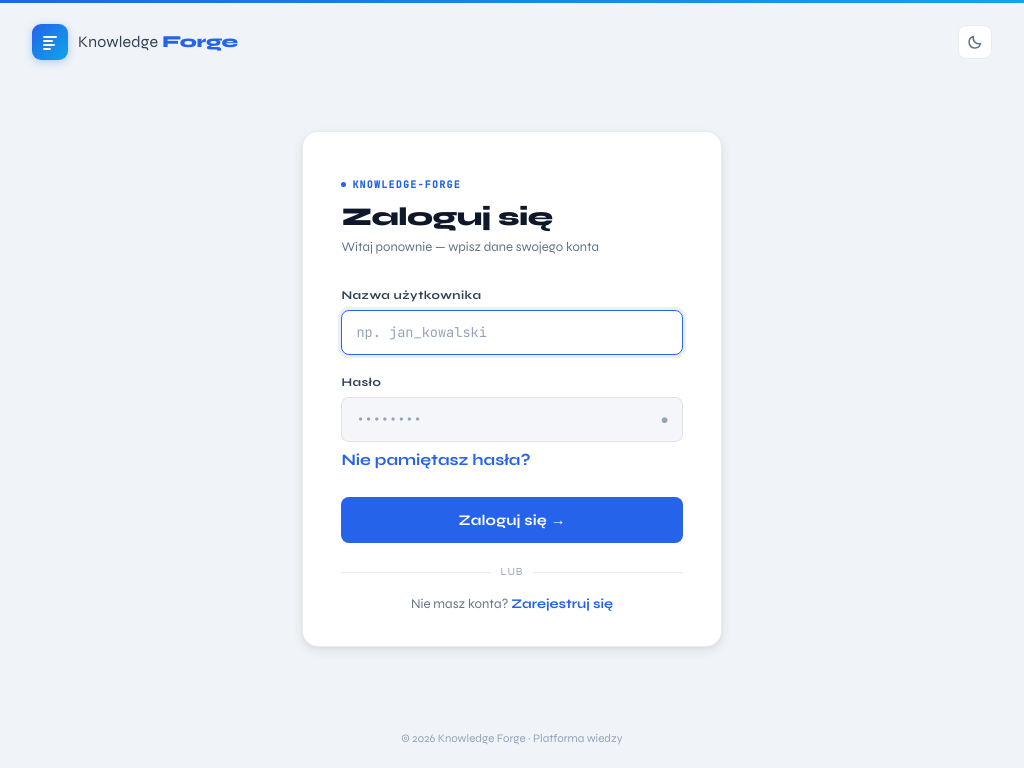
Test: LoginPage › shows an error toast on failed login
The image size is (1024, 768).
Type "ala" into the field labelled "Nazwa użytkownika" at (512, 333), box [341, 310, 683, 355]
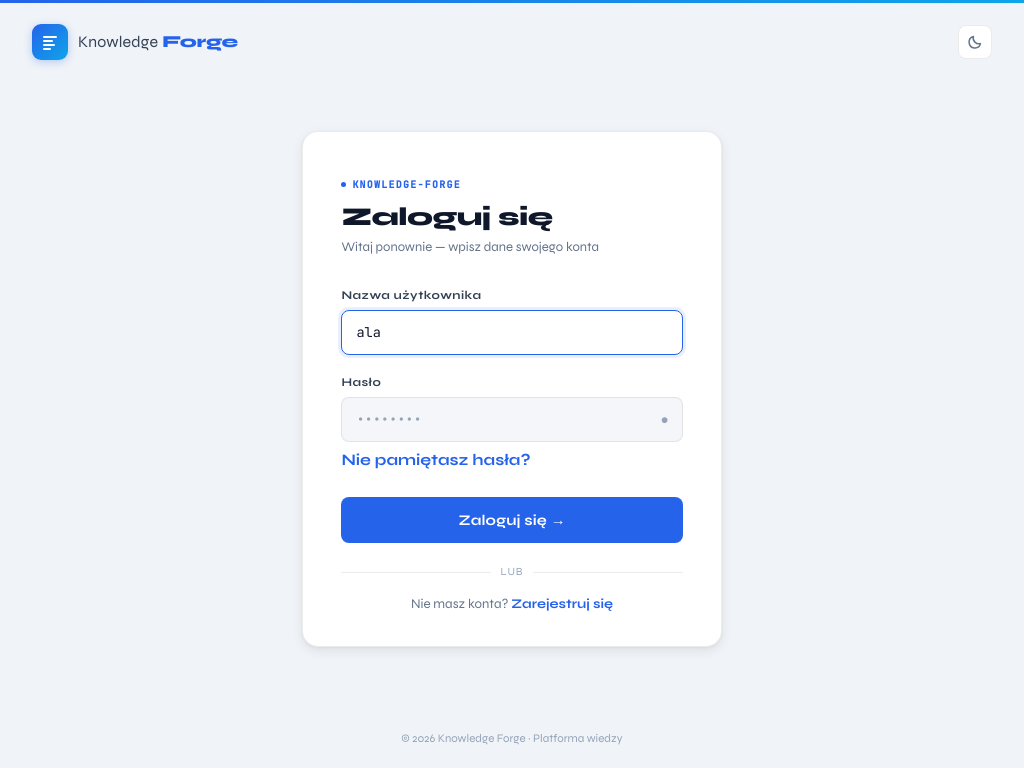
Type "bad" into the password field labelled "Hasło" at (512, 420), box [341, 397, 683, 442]
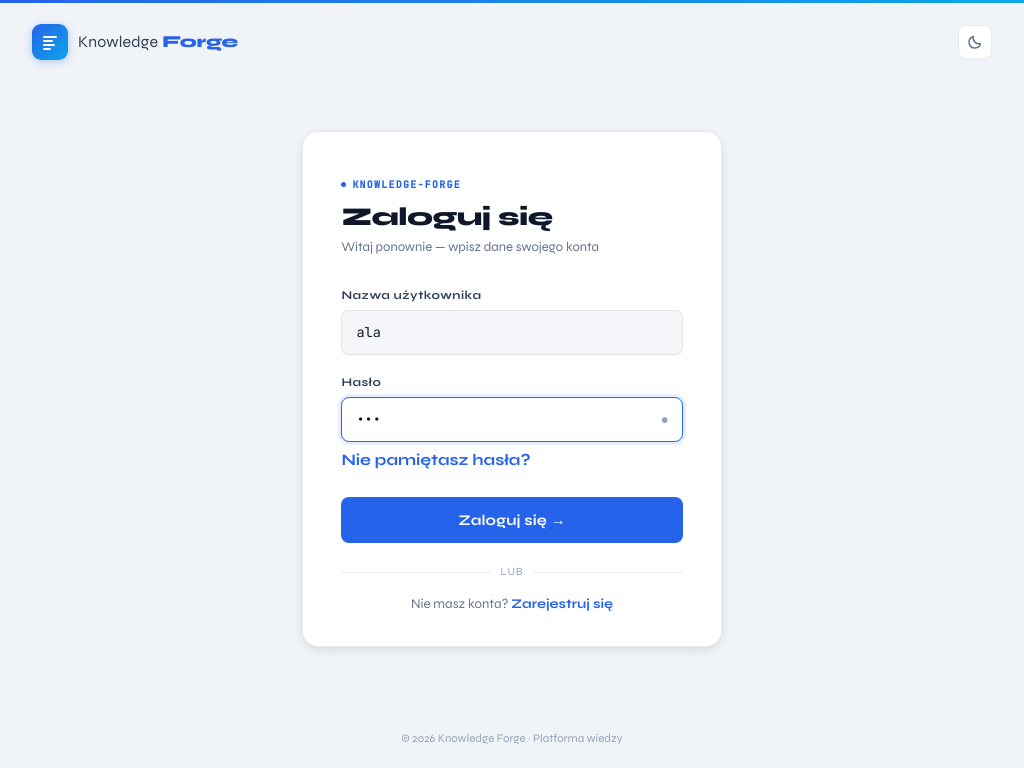
Click the button "Zaloguj się →" at (512, 520), box [341, 497, 683, 543]
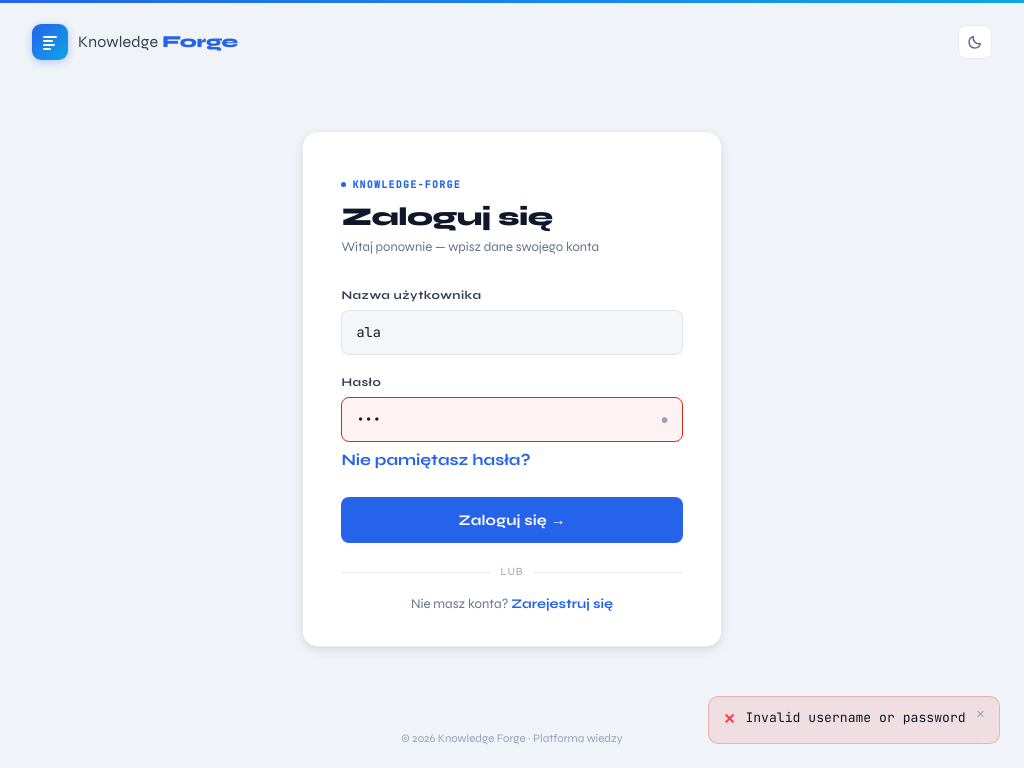
expect the text "Invalid username or password" is shown: met, box [745, 709, 966, 727]
